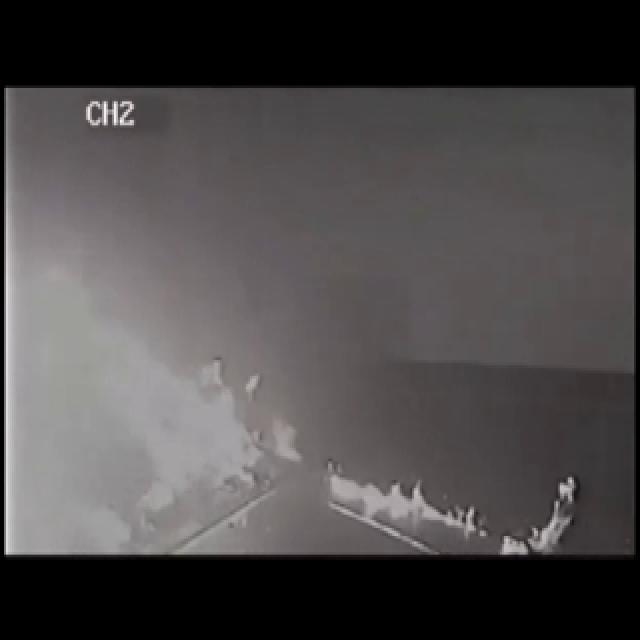arson: (4, 162, 585, 559)
